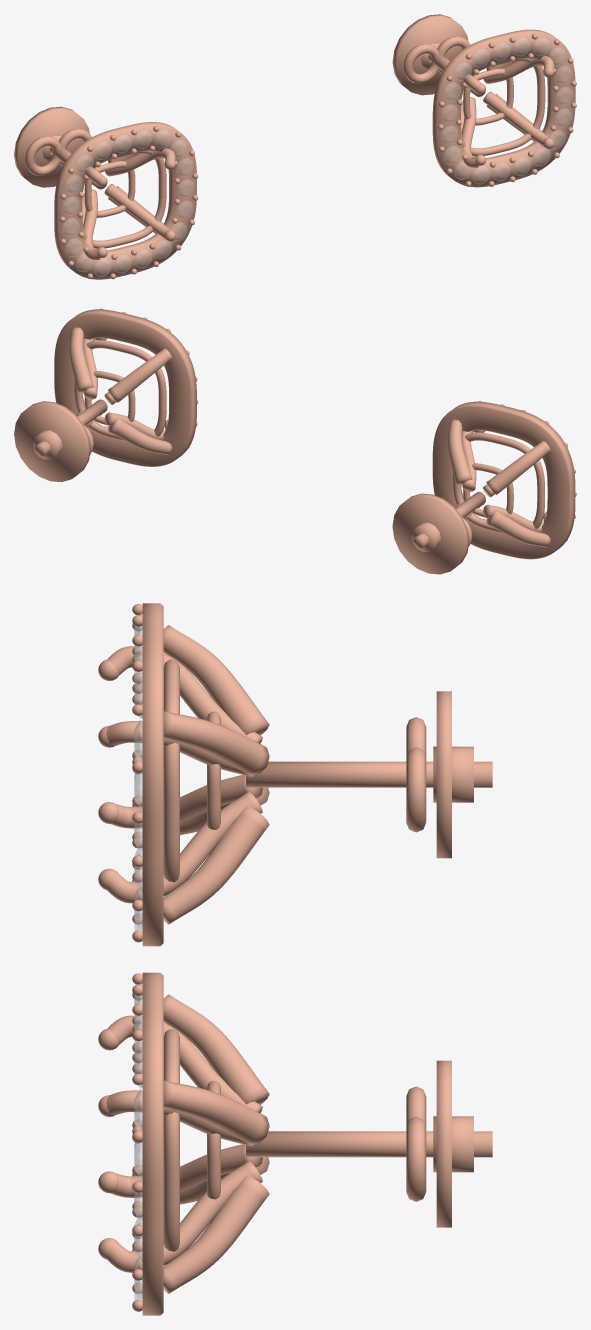
File: Earring_Halo.glb
3 renders of one model, top to bottom at view 1: azimuth 30°, elevation 25°; view 2: azimuth 150°, elevation 25°; view 3: azimuth 270°, elevation 25°, orthographic. The views are drawn at different scales.
Visible parts, largest first — view 1: Halo_Frame, Halo_Frame.001, Accent_Halo.001, Accent_Halo, Head_Center.001, Head_Center, Attach_Back.001, Attach_Back; view 2: Halo_Frame.001, Halo_Frame, Attach_Back, Attach_Back.001, Head_Center, Head_Center.001, Attach_Post, Attach_Post.001; view 3: Halo_Frame.001, Halo_Frame, Head_Center.001, Head_Center, Attach_Back, Attach_Back.001, Attach_Post, Attach_Post.001, Accent_Halo, Accent_Halo.001.
Boxes of the visible parts, bbox=[...] form: Halo_Frame: bbox=[432, 29, 576, 187]; Halo_Frame.001: bbox=[54, 122, 198, 279]; Accent_Halo.001: bbox=[62, 130, 194, 276]; Accent_Halo: bbox=[441, 37, 572, 184]; Head_Center.001: bbox=[82, 148, 175, 259]; Head_Center: bbox=[460, 55, 554, 167]; Attach_Back.001: bbox=[14, 106, 91, 187]; Attach_Back: bbox=[392, 14, 470, 95]; Halo_Frame.001: bbox=[432, 401, 576, 559]; Halo_Frame: bbox=[54, 308, 198, 466]; Attach_Back: bbox=[14, 401, 93, 482]; Attach_Back.001: bbox=[392, 493, 472, 574]; Head_Center: bbox=[74, 338, 168, 440]; Head_Center.001: bbox=[453, 430, 546, 533]; Attach_Post: bbox=[34, 399, 107, 456]; Attach_Post.001: bbox=[413, 491, 485, 548]; Halo_Frame.001: bbox=[132, 603, 269, 946]; Halo_Frame: bbox=[132, 972, 269, 1315]; Head_Center.001: bbox=[98, 646, 262, 903]; Head_Center: bbox=[98, 1015, 262, 1272]; Attach_Back: bbox=[406, 1060, 473, 1227]; Attach_Back.001: bbox=[406, 691, 473, 858]; Attach_Post: bbox=[246, 1131, 492, 1157]; Attach_Post.001: bbox=[246, 761, 492, 787]; Accent_Halo: bbox=[134, 982, 142, 1300]; Accent_Halo.001: bbox=[134, 613, 142, 931].
Bounding box in the file's own units: 0.0382 × 0.0102 × 0.0126.
